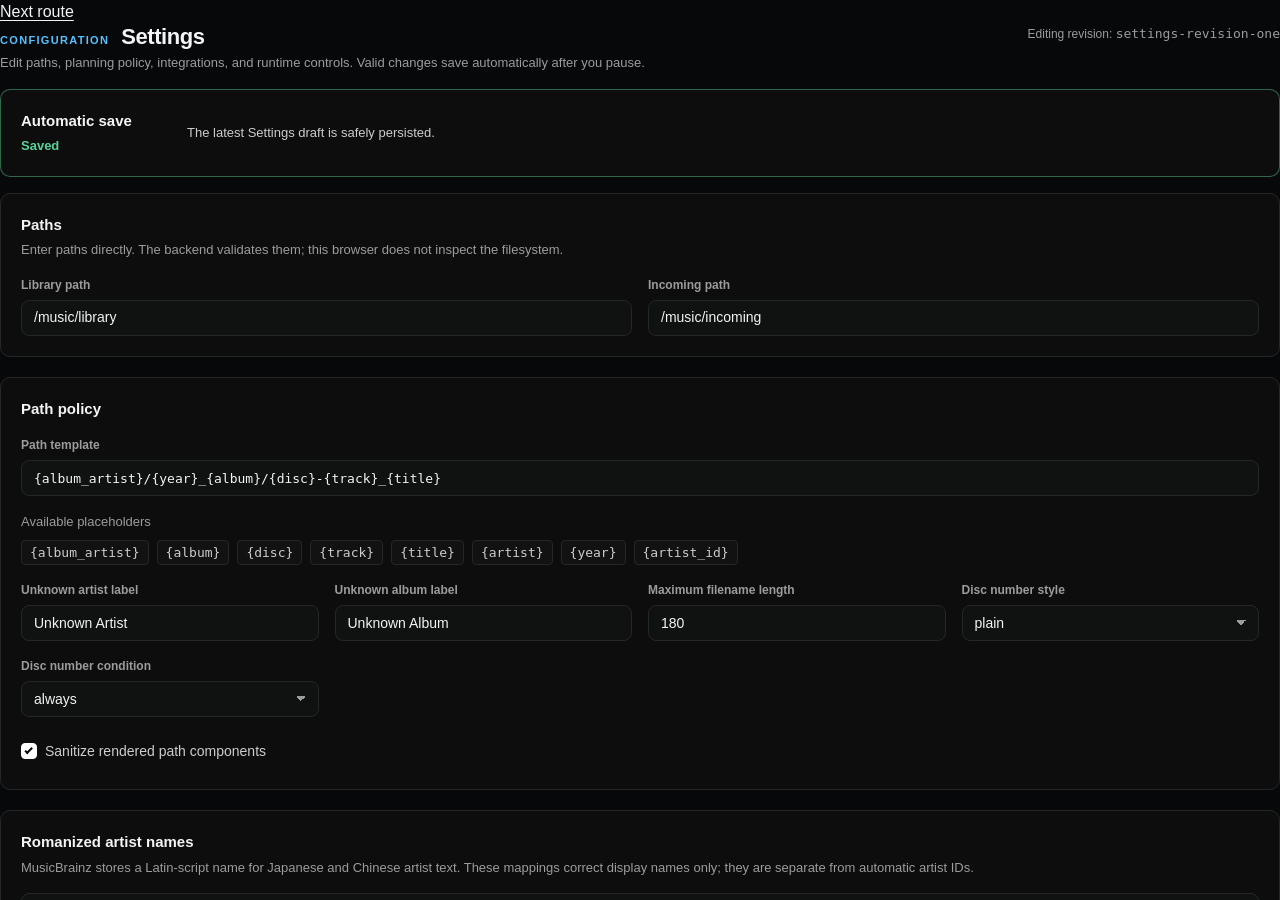
Scenario: Settings route › pauses after a revision conflict until Load latest Settings is chosen
Replace the text in the field labelled "Library path" with "/music/conflicted": (326, 318) [21, 300, 632, 336]
Wait 600 ms
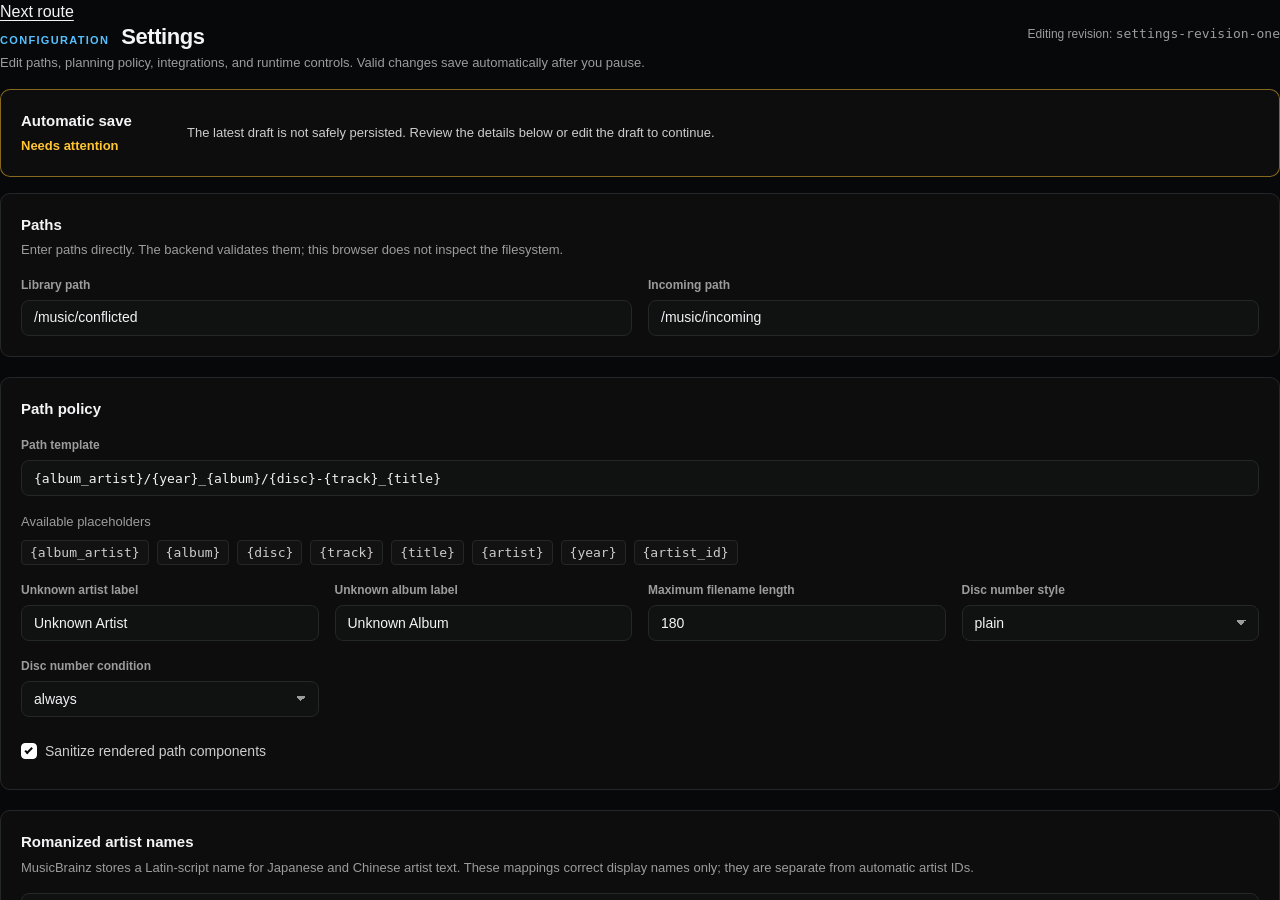
Replace the text in the field labelled "Library path" with "/music/still-conflicted": (326, 318) [21, 300, 632, 336]
Wait 600 ms
(page scrolled)
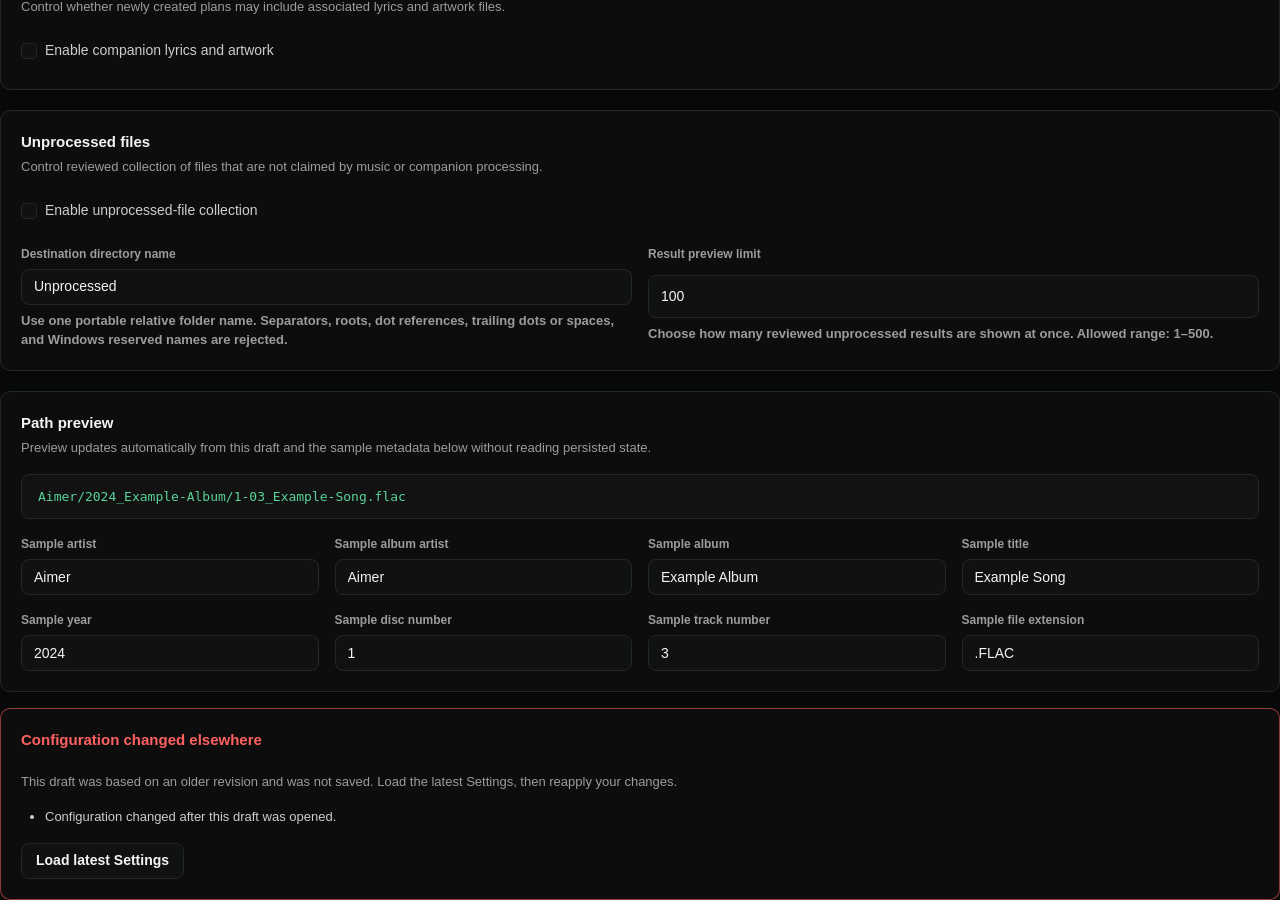
Click the button "Load latest Settings": (102, 861) [21, 843, 184, 879]
(page scrolled)
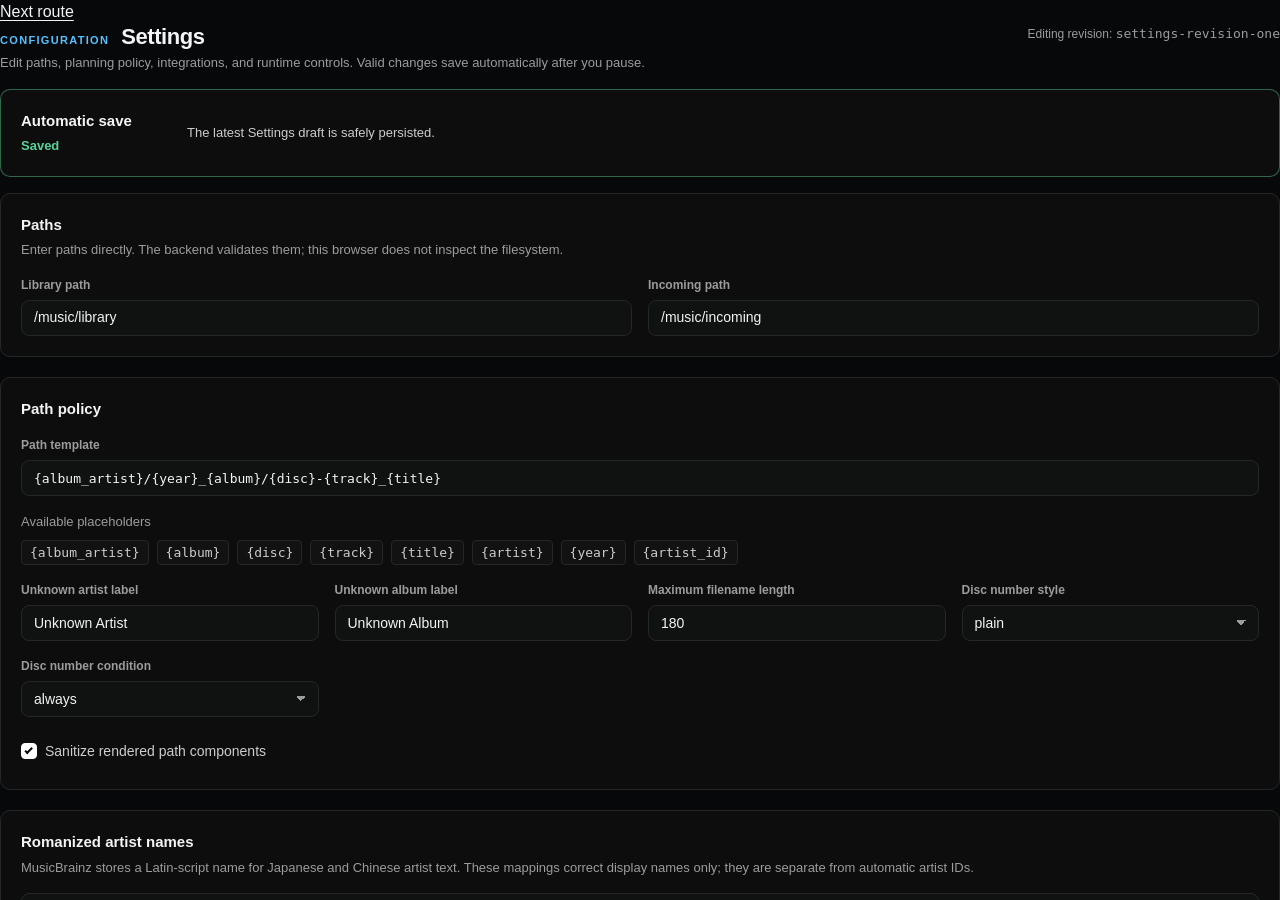
Result: the field labelled "Library path" holds "/music/library" at [21, 300, 632, 336]
Result: the message "Automatic save" shows "Saved" at [21, 138, 59, 153]
